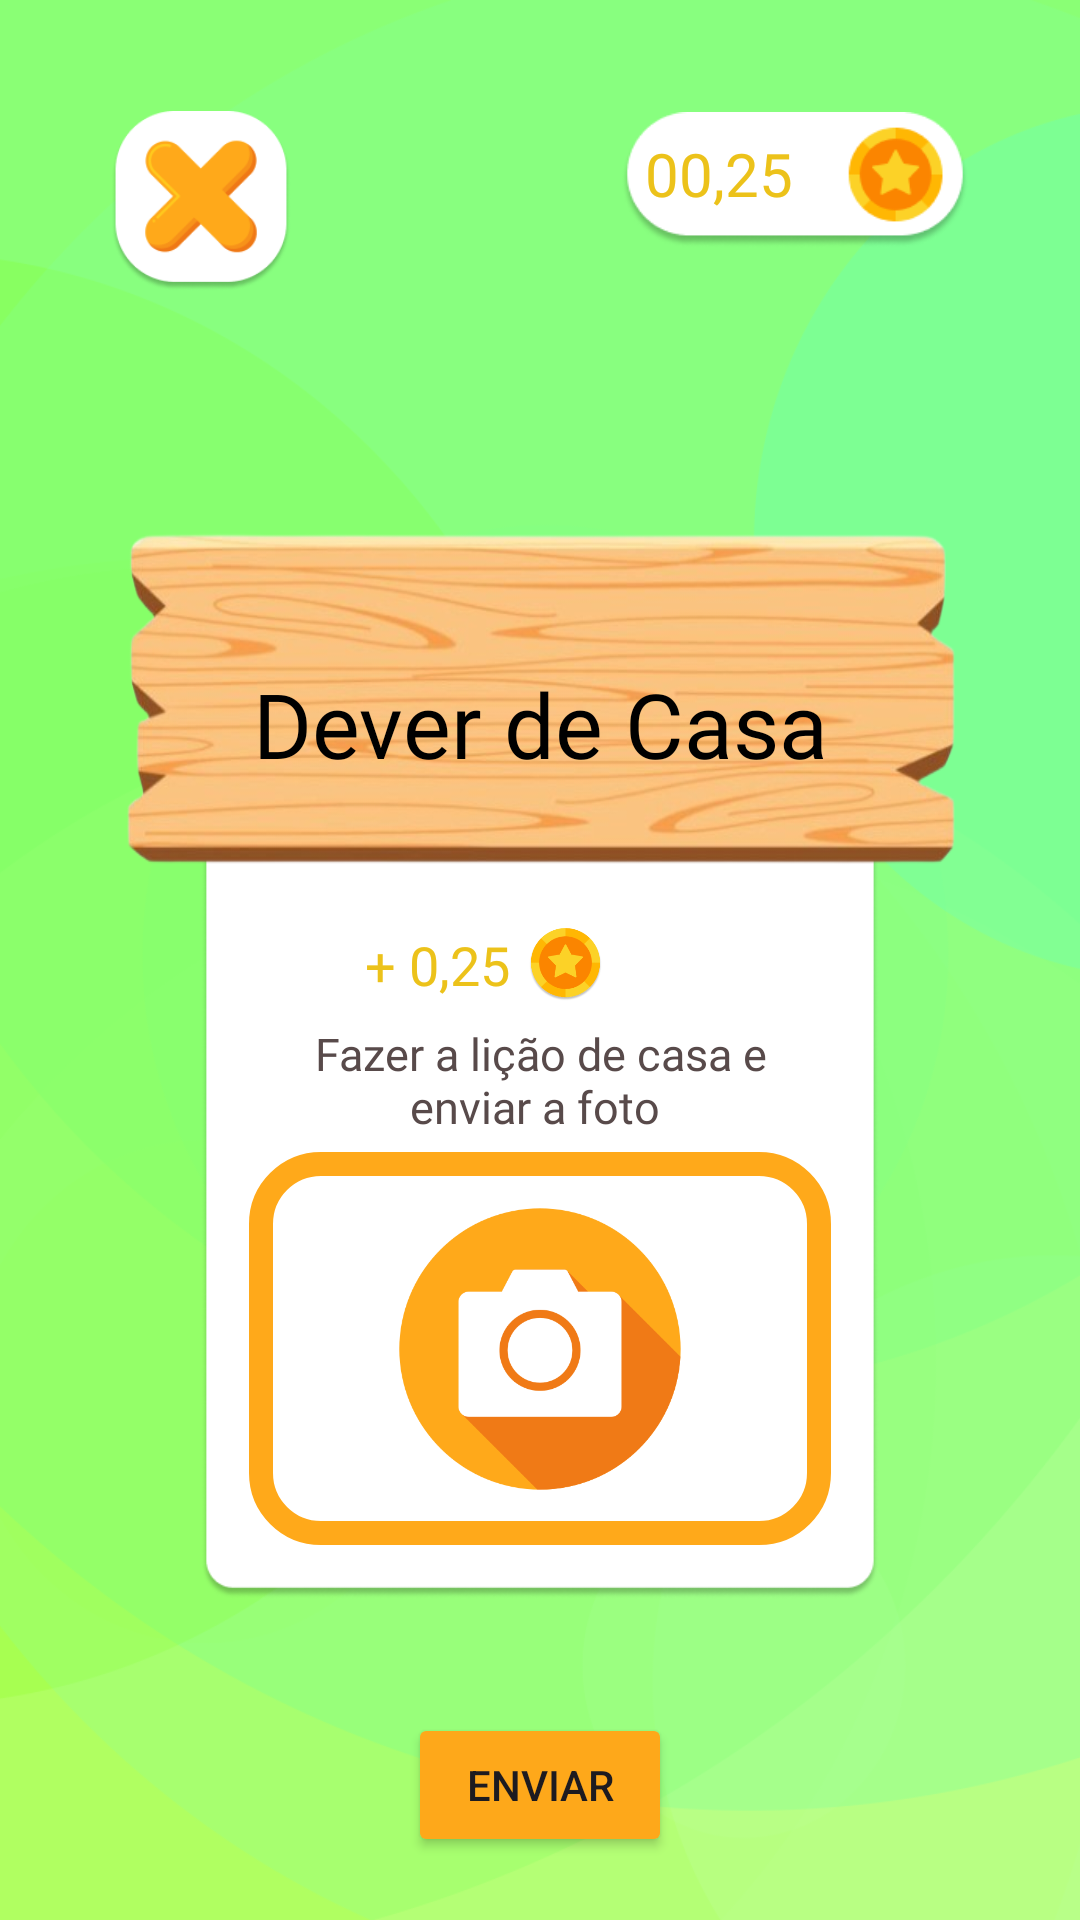

Screen size 1080w x 1920h. Icon name, then its center in pixels as (x=x, y=y):
balance bar: (x=795, y=177)
close: (x=201, y=199)
